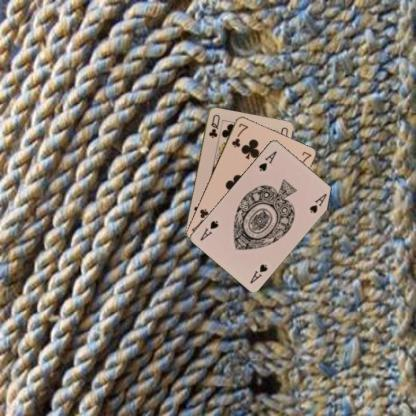7c: (229, 120, 249, 149)
As: (256, 148, 278, 173), (247, 261, 269, 284)
Qc: (206, 112, 221, 139)
